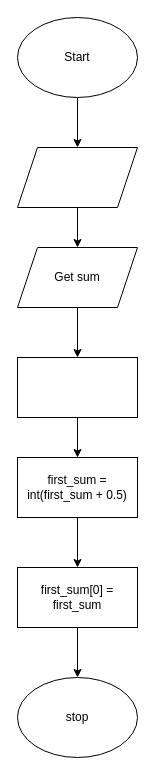
The diagram is 155 pixels wide and 775 high, and some of its shapes have lost their labels. The shapes that lost their labels are listed below. From the top down, each one's centre as x and y in pixels, then its label:
At point (77, 177): "Get amount".
At point (77, 387): "final_sum = final_sum[0] * 10 ** amount".
